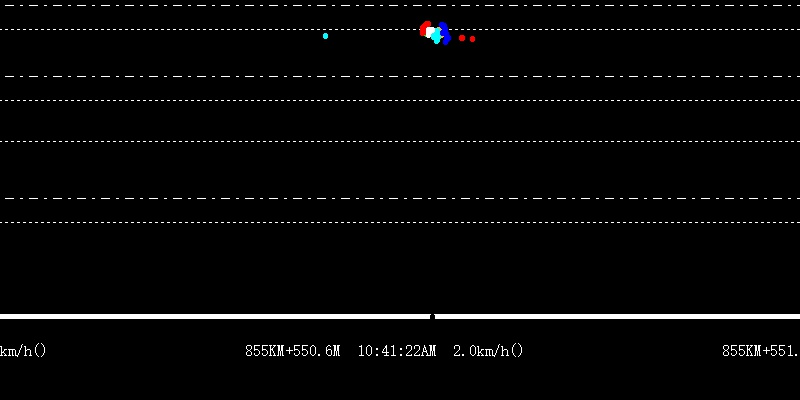face_2: (419, 19, 451, 48)
face_down: (321, 25, 330, 42)
